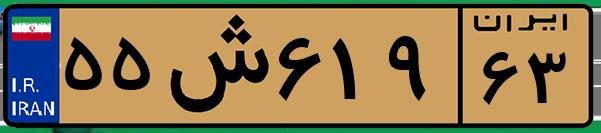1: (330, 28, 385, 110)
3: (525, 38, 570, 115)
5: (57, 26, 110, 100), (110, 28, 158, 98)
6: (270, 28, 330, 110), (475, 38, 525, 113)
9: (385, 28, 445, 110)
ش: (158, 12, 270, 120)
